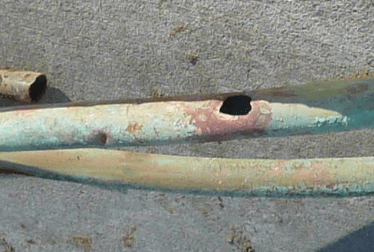hole: (215, 92, 259, 120)
